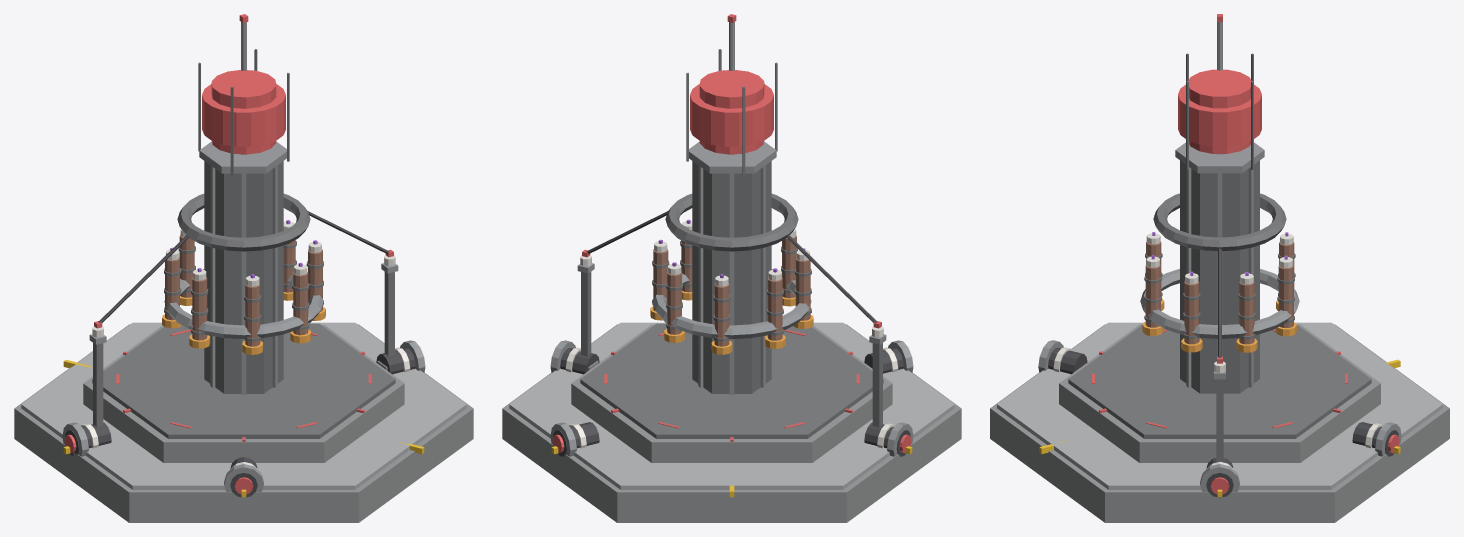
The model's file is overload_matrix_s2_100.glb.
3 views of the same model, side by side, from view 1: azimuth 30°, elevation 25°; view 2: azimuth 150°, elevation 25°; view 3: azimuth 270°, elevation 25° (orthographic).
Visible parts, largest first — view 1: OverloadMatrix_s2; view 2: OverloadMatrix_s2; view 3: OverloadMatrix_s2.
Boxes of the visible parts, <box> form: OverloadMatrix_s2: <box>14,14,473,522</box>; OverloadMatrix_s2: <box>502,14,961,522</box>; OverloadMatrix_s2: <box>990,14,1449,522</box>.
Bounding box in the file's own units: 5.41 × 6.1 × 6.
